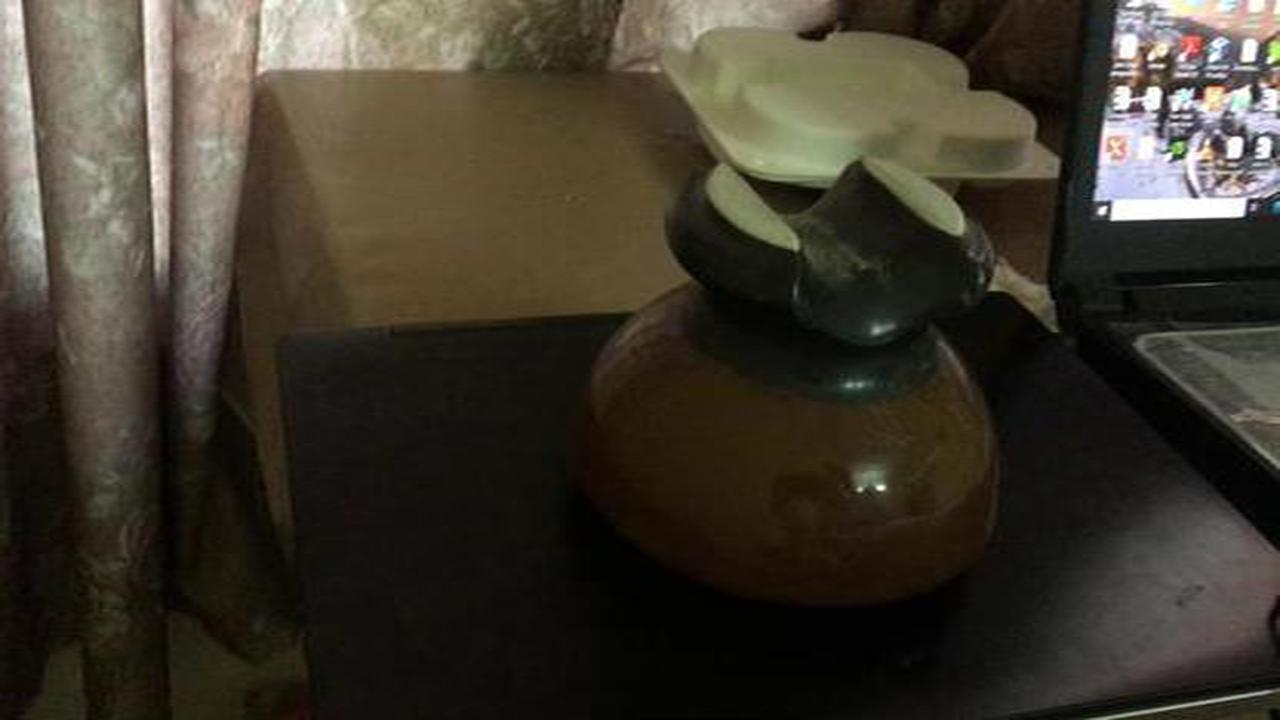insulator_pin: (561, 135, 1037, 620)
